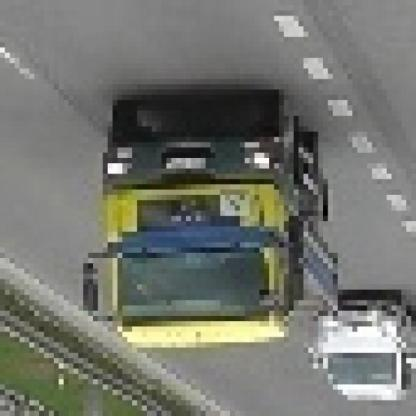truck: (74, 101, 339, 359)
